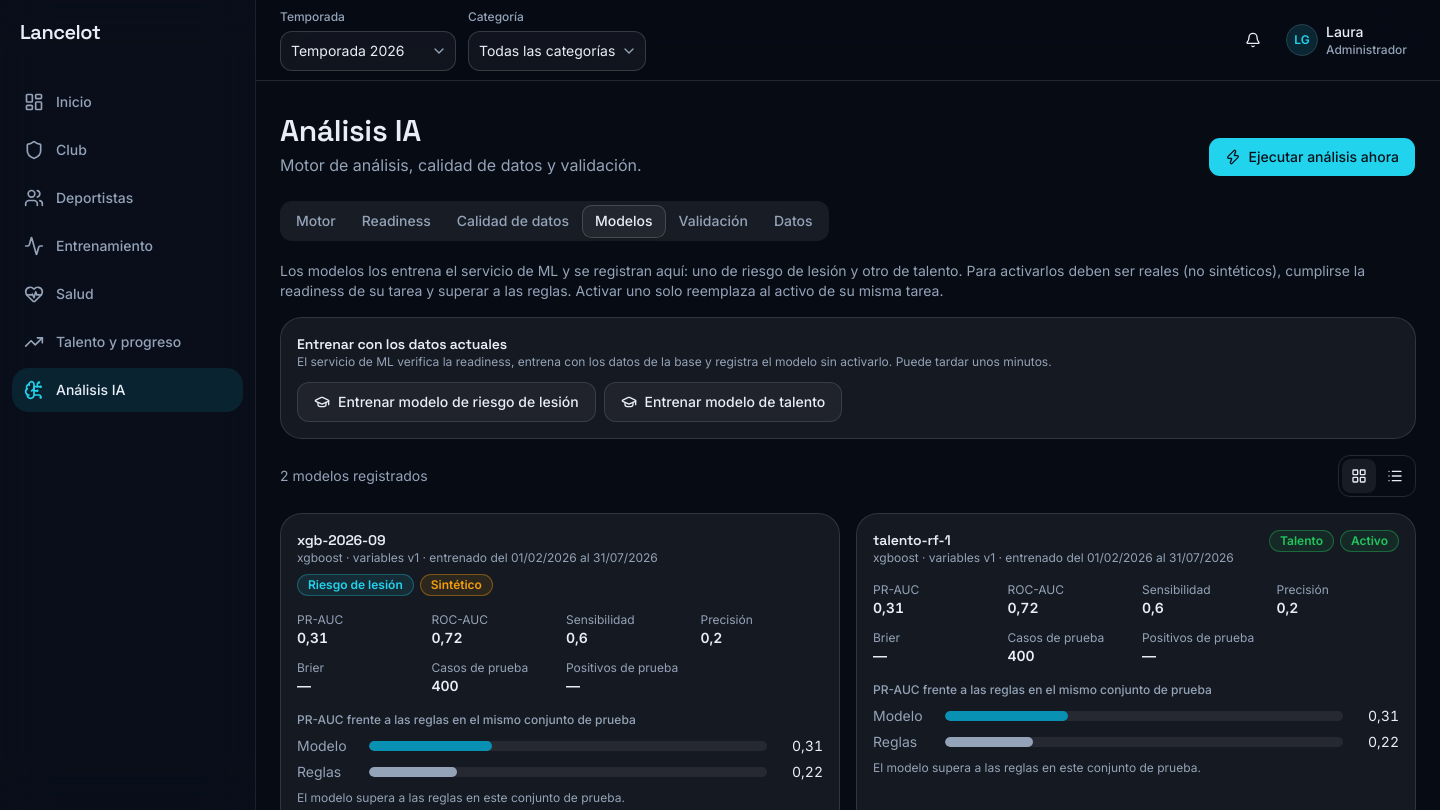
Test: análisis IA › entrena un modelo desde la pestaña de modelos y muestra el resultado
Click the button "Entrenar modelo de talento" at (723, 402), box [604, 382, 842, 422]
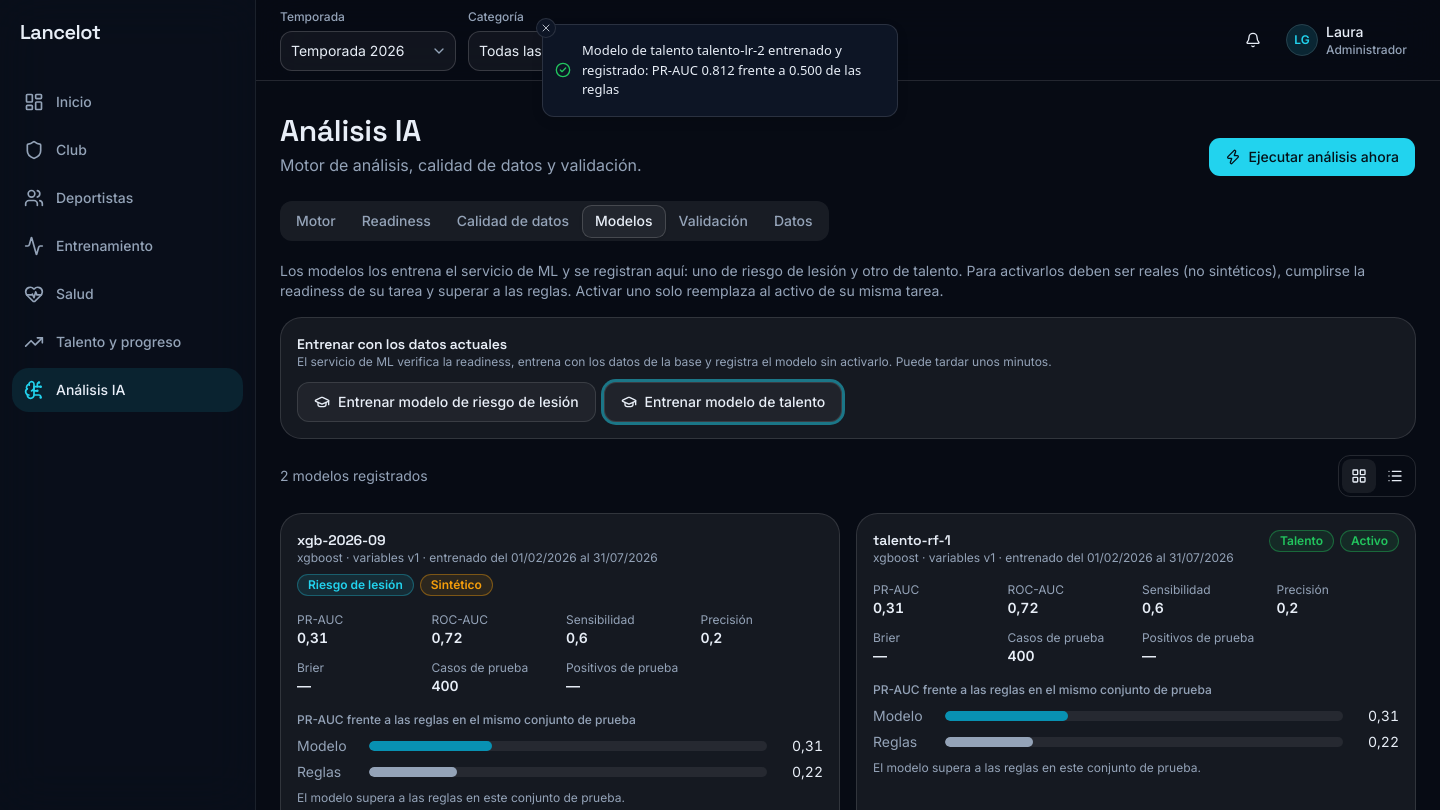
Now the text "talento-lr-2 entrenado y registrado" is shown, box [582, 41, 861, 98]
